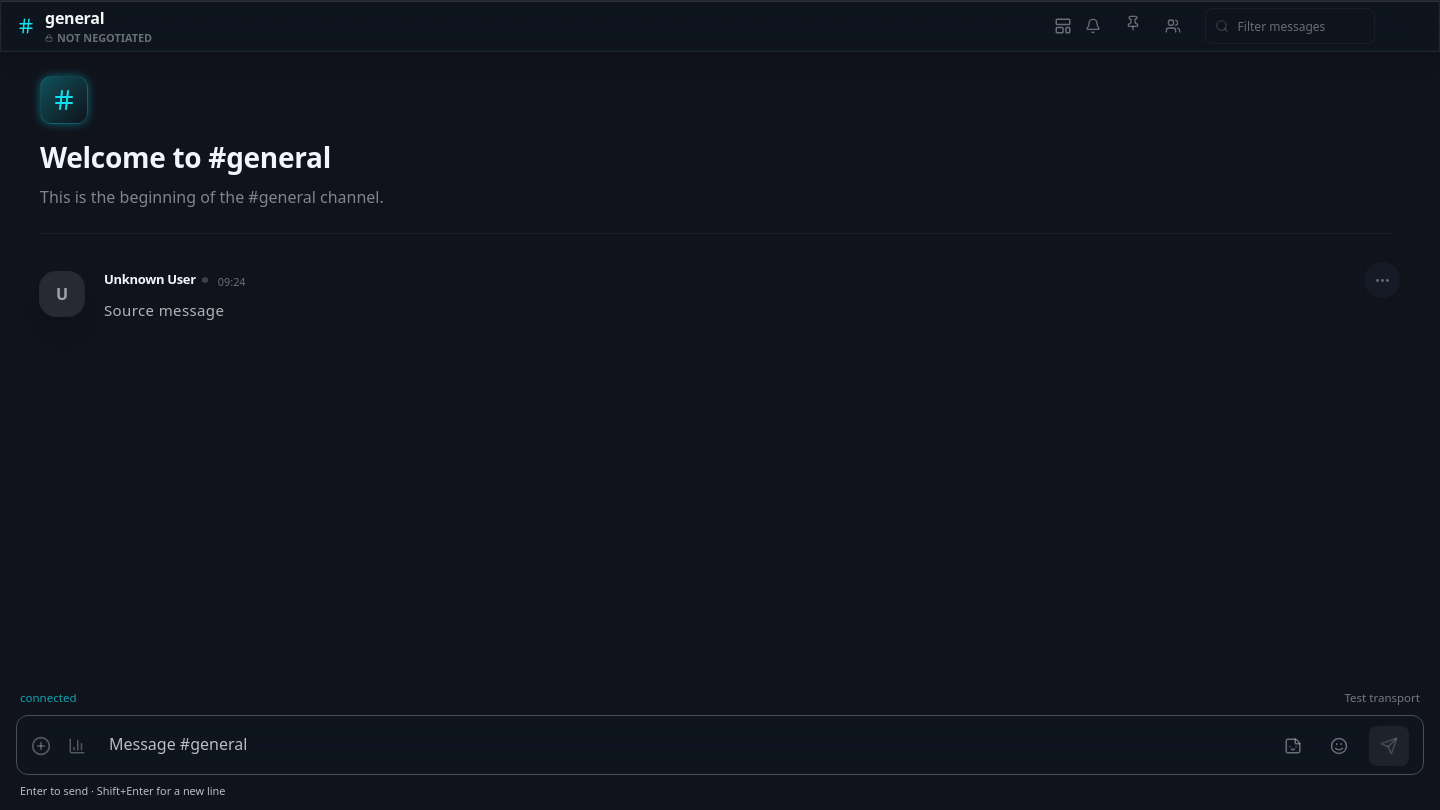
Test: auxiliary send lifetimes › retains a failed poll for exact retry without clearing the main draft
Type "unrelated draft" into the text box named "Message Input" at (682, 745), box [101,722,1263,768]
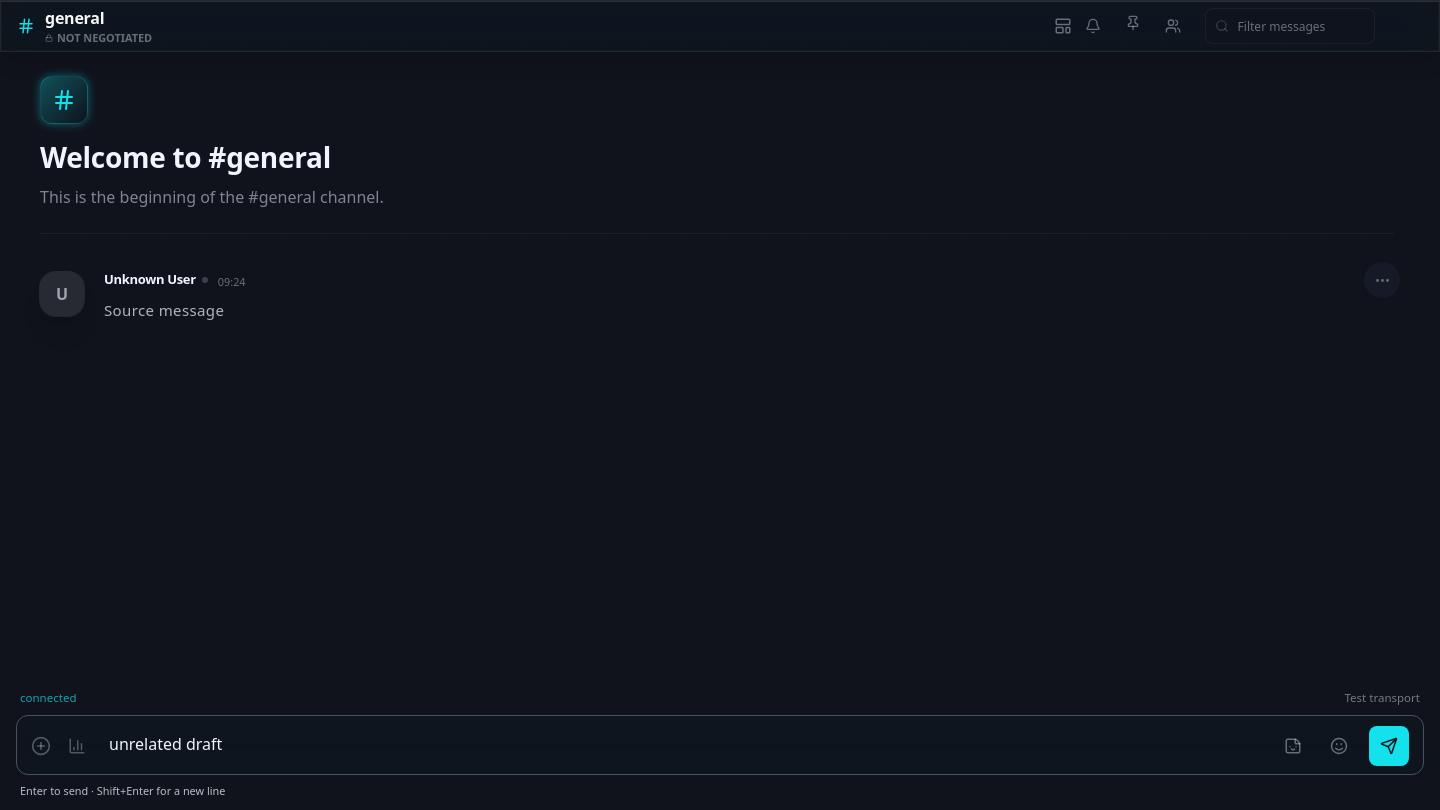
Click the button named "Create Poll" at (77, 746), box [59,724,95,768]
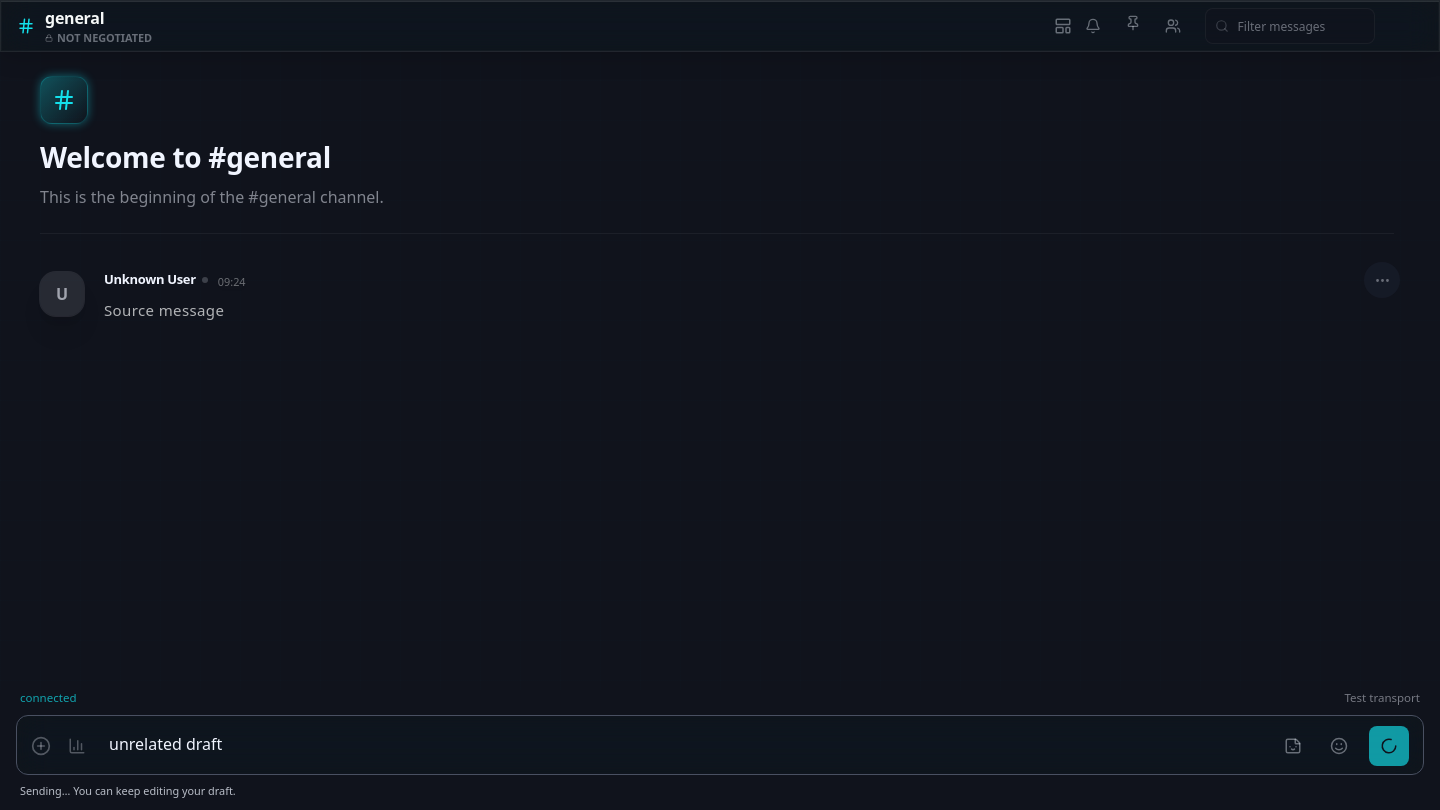
Press Enter in the text box named "Message Input", box [101,722,1263,768]
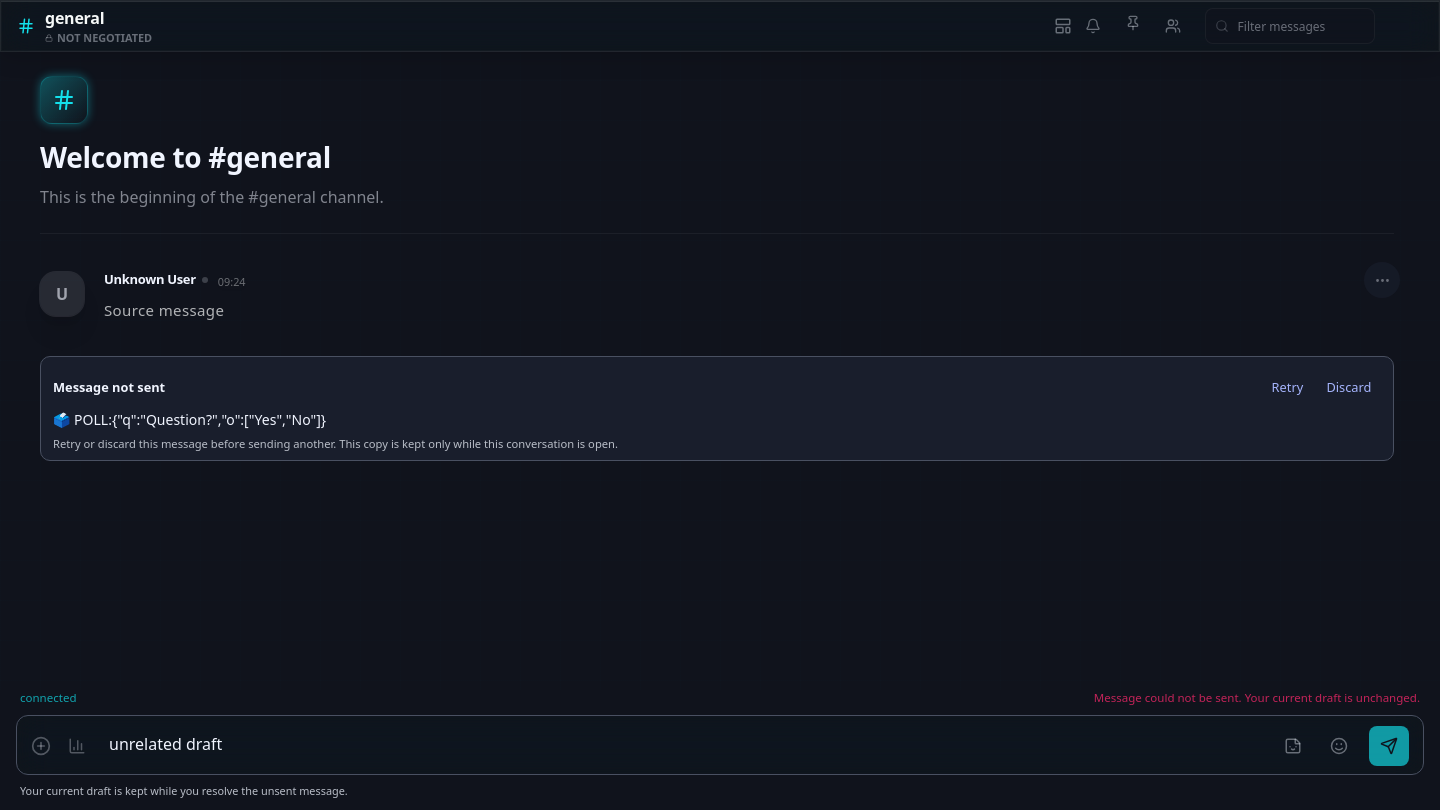
Check: the element named "Unsent message" is shown, box [40,356,1394,461]
Click the button with aria-label "Retry unsent message" at (1287, 387), box [1262,365,1313,409]
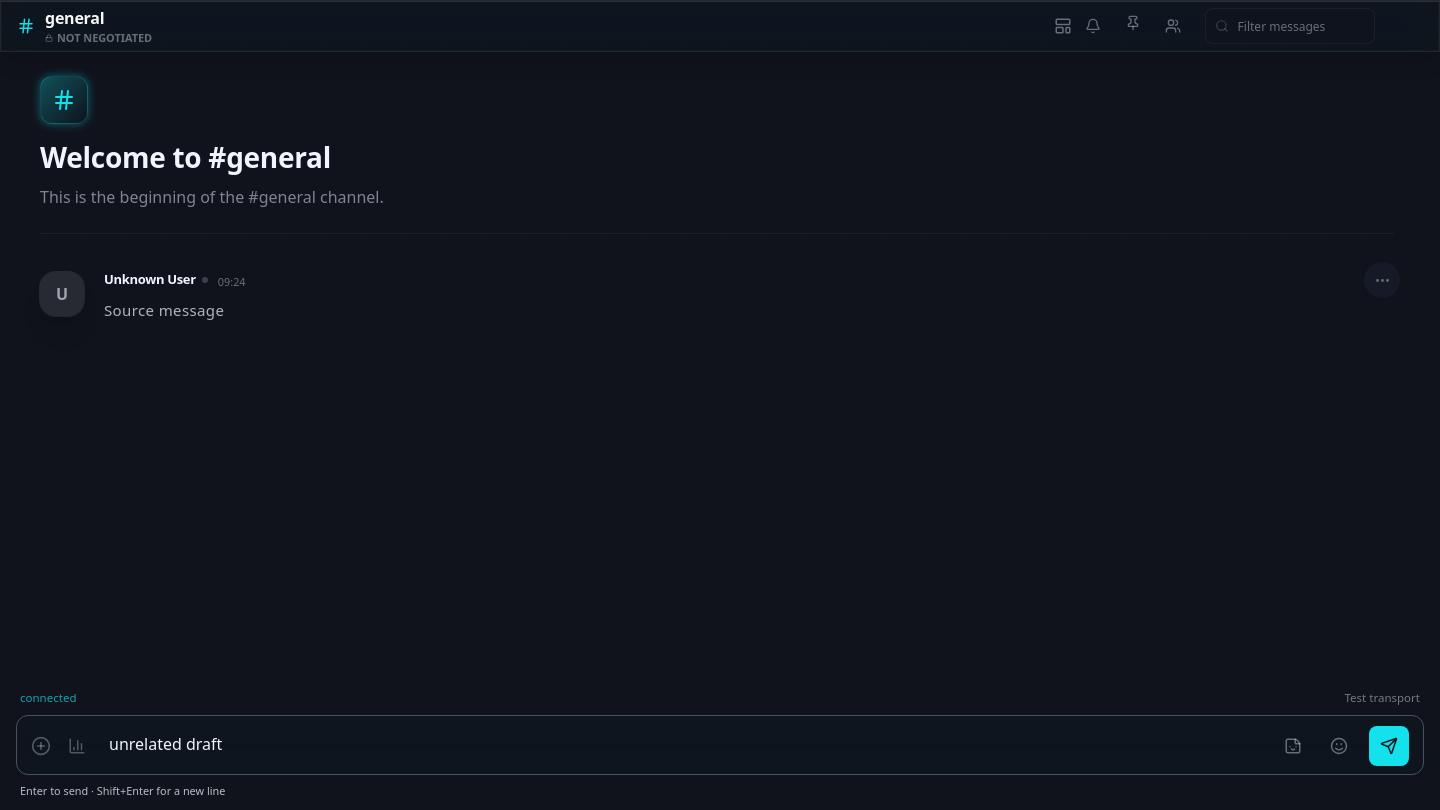
Check: the text "unsent message" is gone
